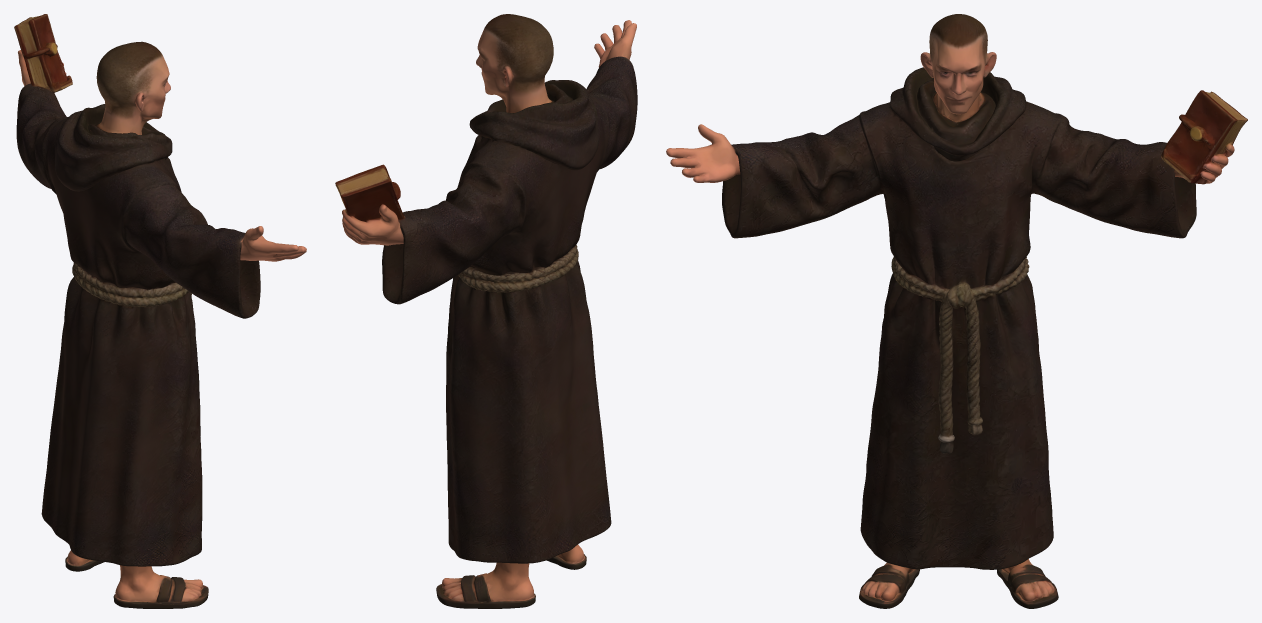
3 renders of one model, left to right at view 1: azimuth 30°, elevation 25°; view 2: azimuth 150°, elevation 25°; view 3: azimuth 270°, elevation 25°, orthographic. The views are drawn at different scales.
Visible parts, largest first — view 1: tripo_node_c3dc2205-170a-4f02-b3c5-d3edc0058bf1; view 2: tripo_node_c3dc2205-170a-4f02-b3c5-d3edc0058bf1; view 3: tripo_node_c3dc2205-170a-4f02-b3c5-d3edc0058bf1.
Boxes of the visible parts, x1,y1,x2,y2 form: tripo_node_c3dc2205-170a-4f02-b3c5-d3edc0058bf1: [14, 14, 306, 608]; tripo_node_c3dc2205-170a-4f02-b3c5-d3edc0058bf1: [335, 14, 637, 608]; tripo_node_c3dc2205-170a-4f02-b3c5-d3edc0058bf1: [666, 14, 1247, 608].
Size of the model in its own units: 0.2589 by 1 by 0.9234.
Materials: 1 (1 with a texture image).
